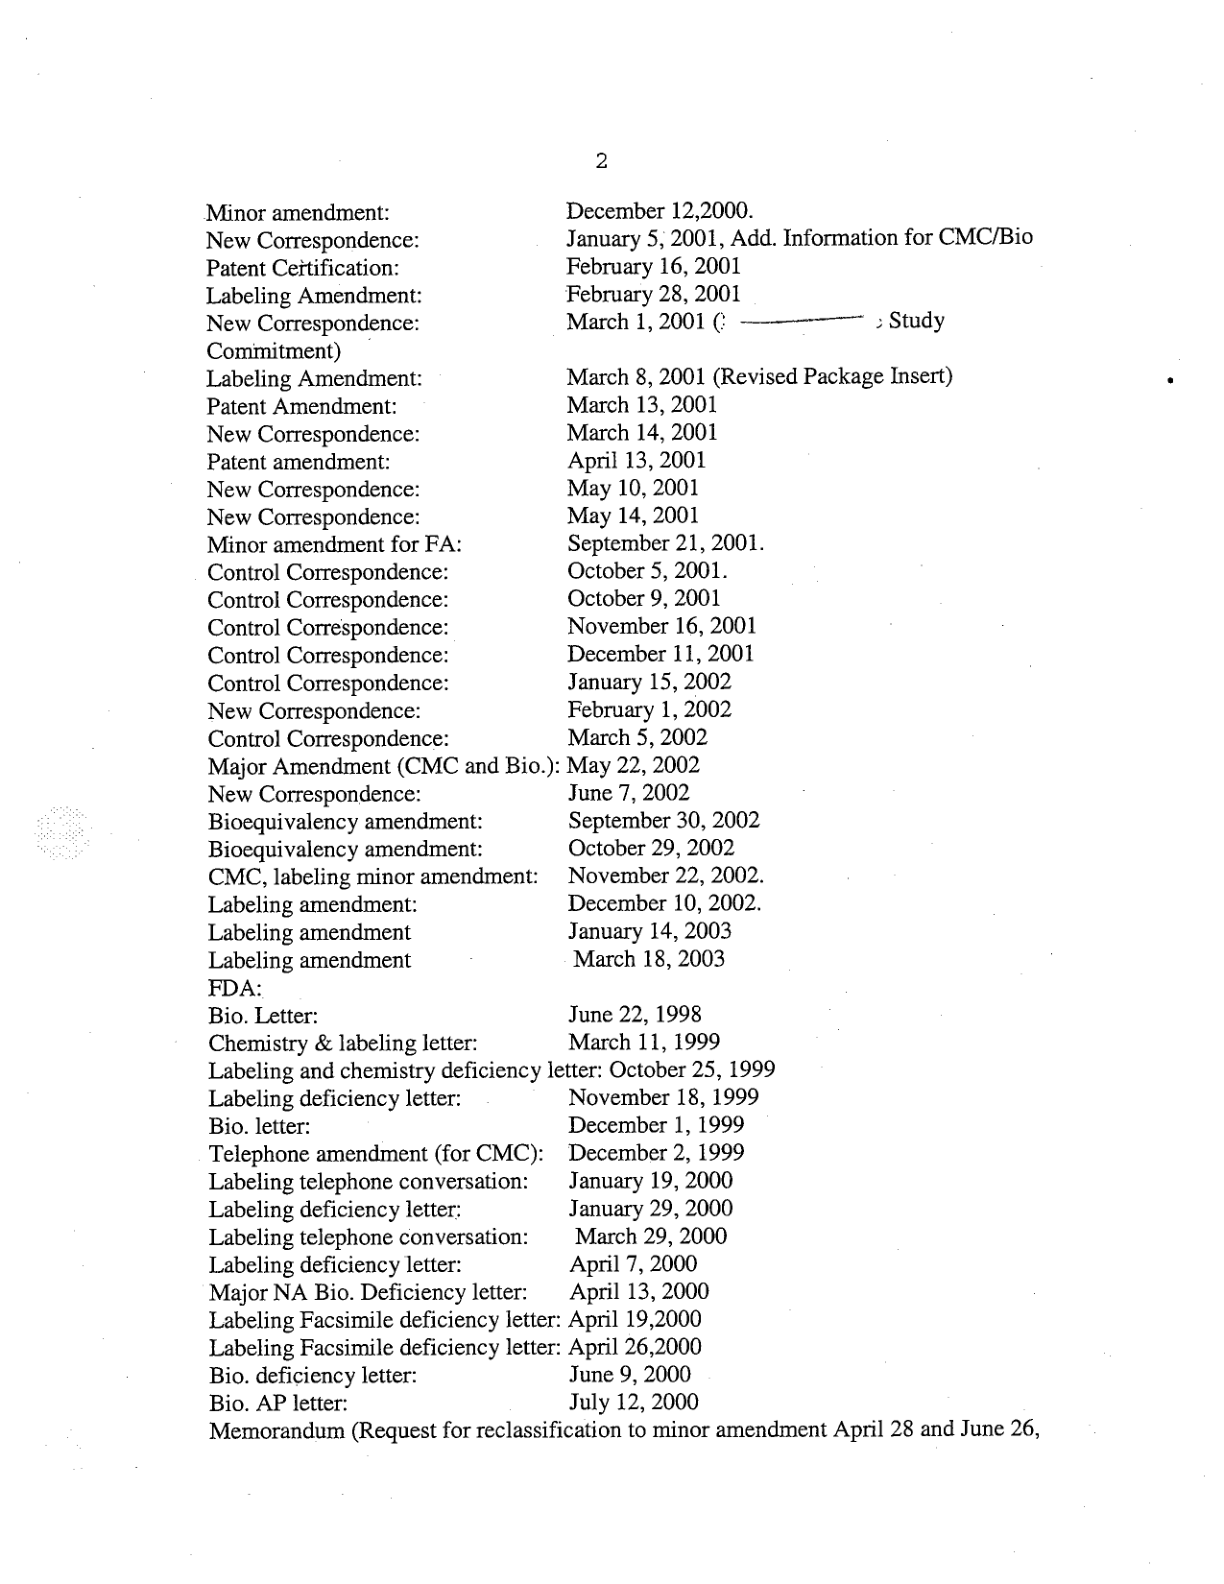nolines: (203, 198, 1036, 1416)
